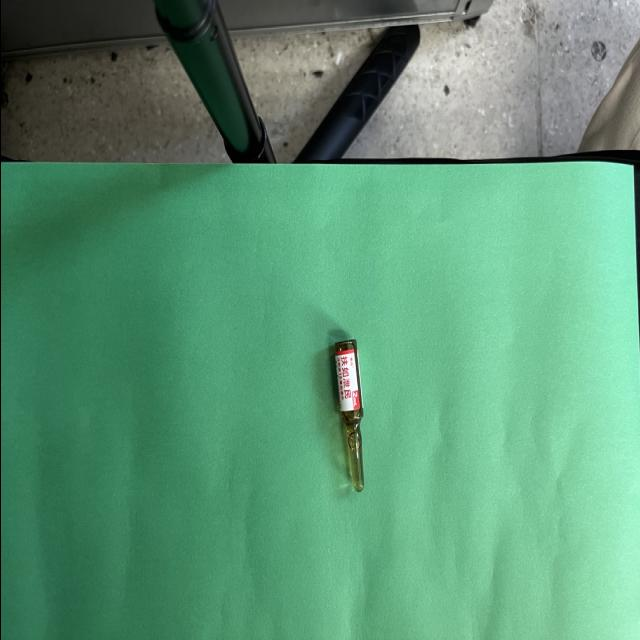Ampoules: (333, 339, 363, 491)
